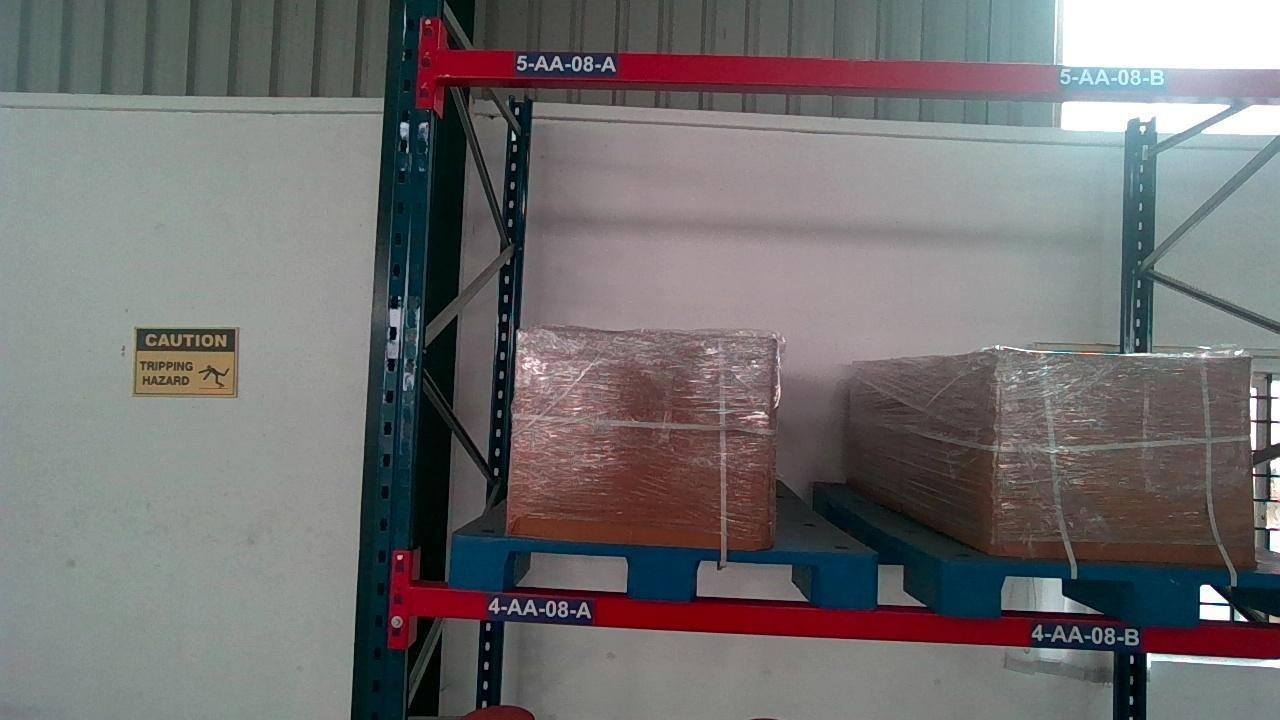h_rack: (411, 581, 1280, 657), (436, 52, 1280, 99)
small_pallet: (445, 542, 880, 600), (956, 559, 1280, 622)
